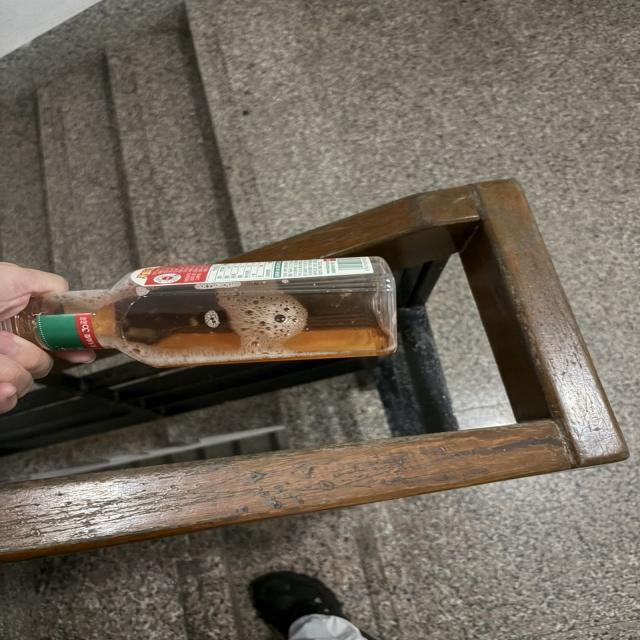medium: (5, 256, 395, 367)
